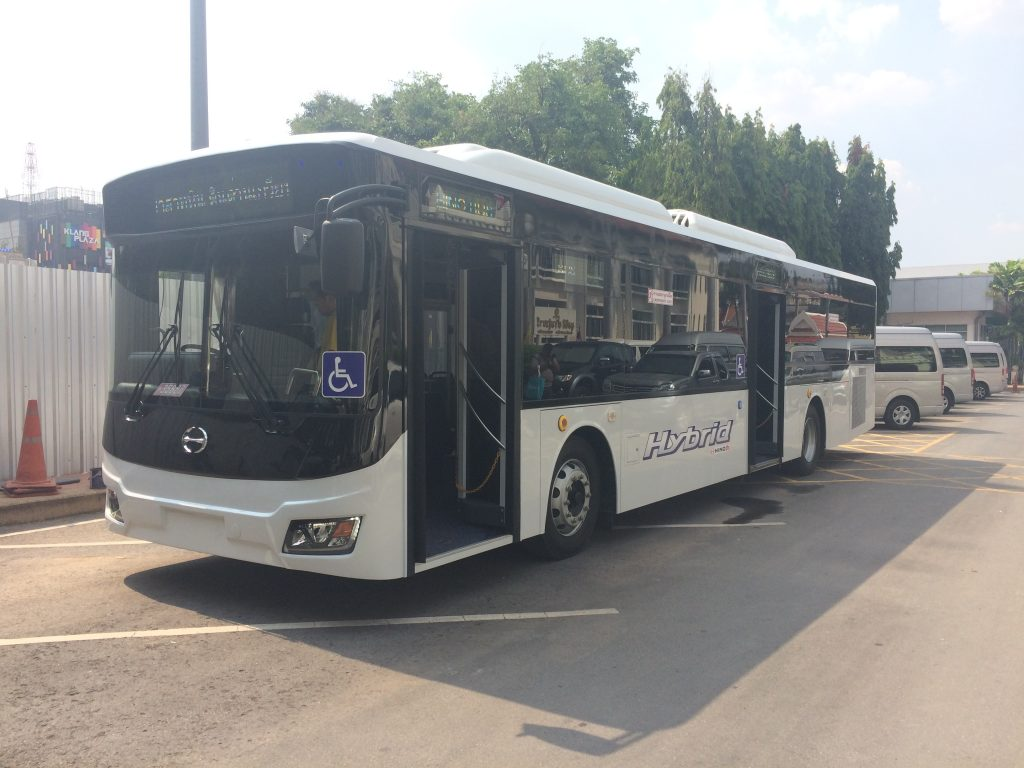bus: (98, 130, 878, 590)
